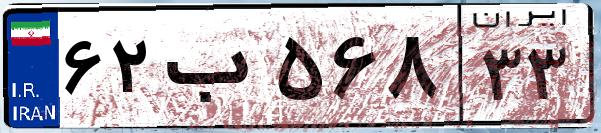2: (110, 28, 158, 98)
3: (475, 38, 525, 113), (525, 38, 570, 115)
5: (270, 28, 330, 110)
6: (330, 28, 385, 110), (57, 26, 110, 100)
8: (385, 28, 445, 110)
ب: (158, 20, 270, 120)
